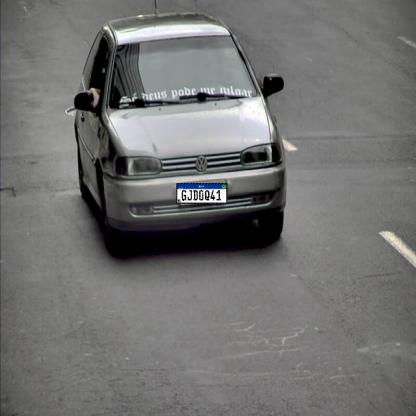PlacaM: (176, 183, 228, 204)
